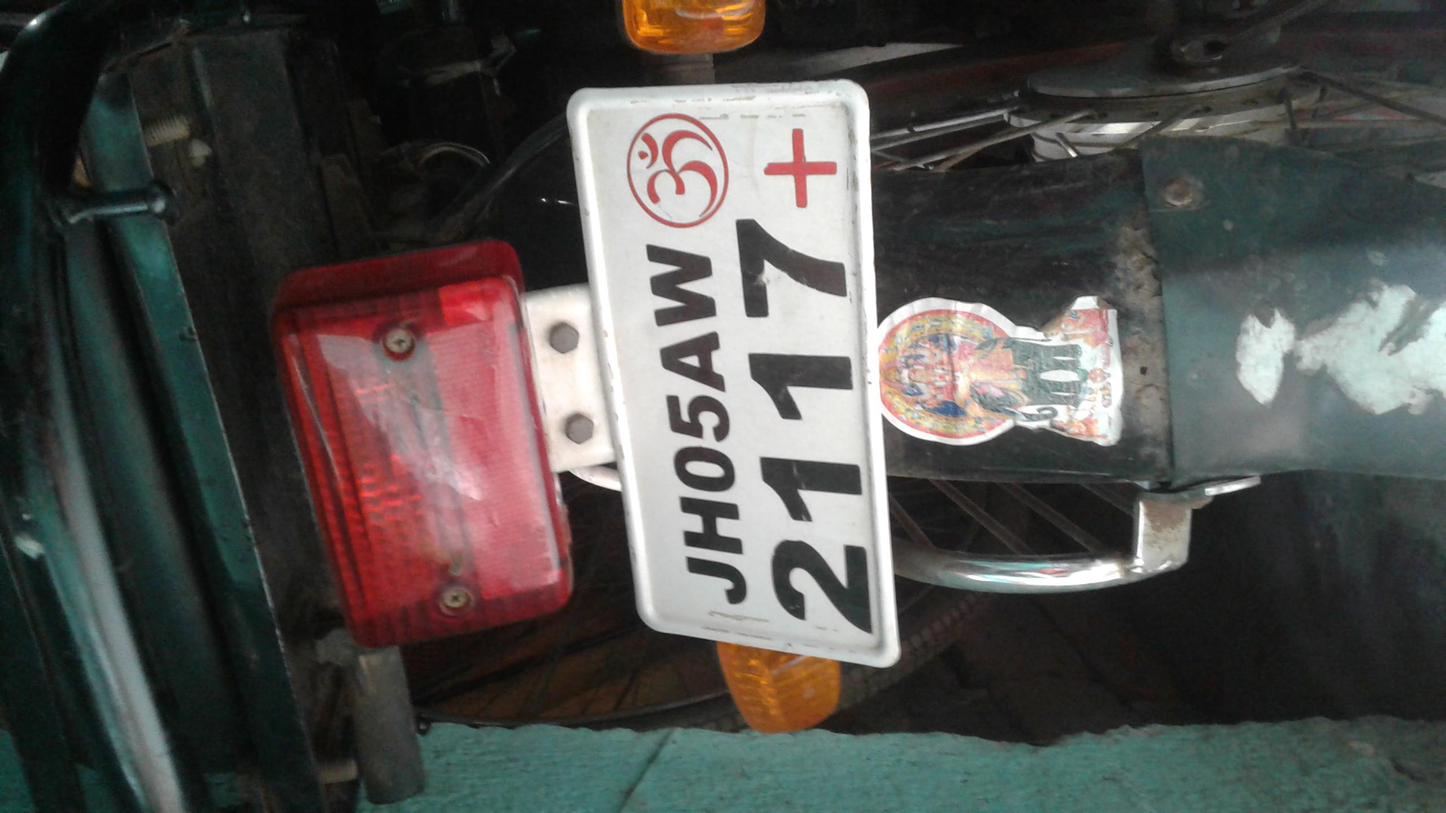number_platerotation: (248, 315, 1312, 509)
